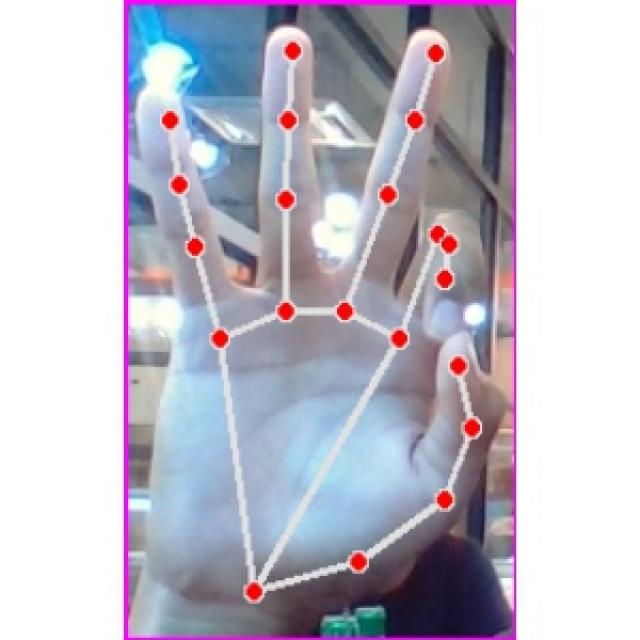F: (134, 14, 508, 607)
